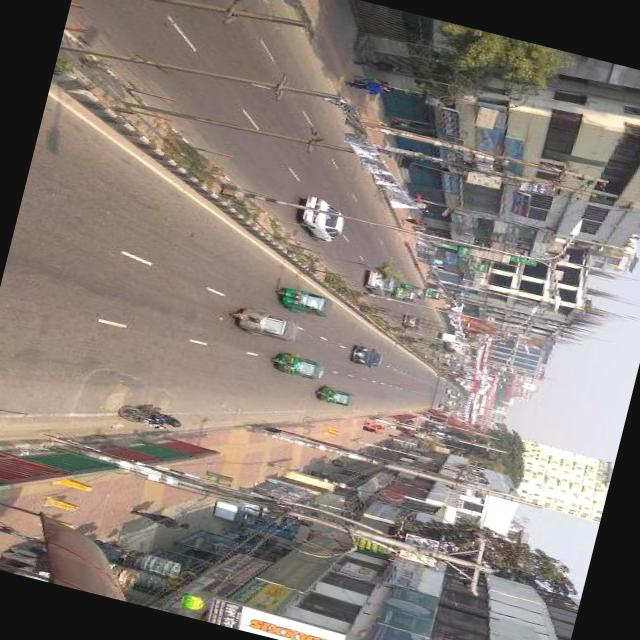car: (296, 193, 352, 246), (362, 267, 400, 298), (354, 343, 388, 369), (402, 312, 428, 332), (446, 386, 459, 396)
motorcycle: (232, 302, 306, 344), (120, 396, 192, 435), (272, 281, 338, 322), (270, 346, 330, 382), (315, 382, 362, 410), (398, 288, 422, 304), (400, 280, 428, 292), (427, 286, 447, 302), (440, 356, 452, 362)
truck: (440, 329, 462, 343)
